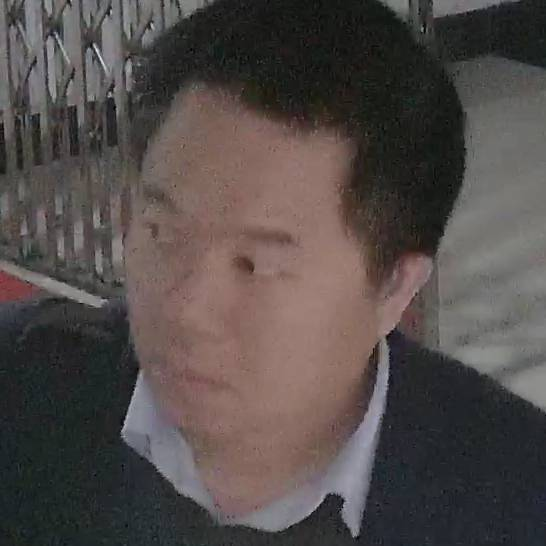cb: (70, 53, 485, 468)
